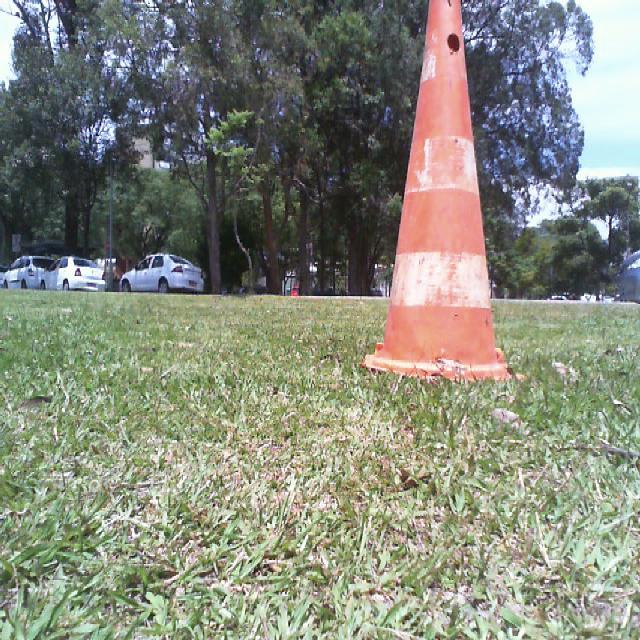cone: (365, 0, 508, 380)
